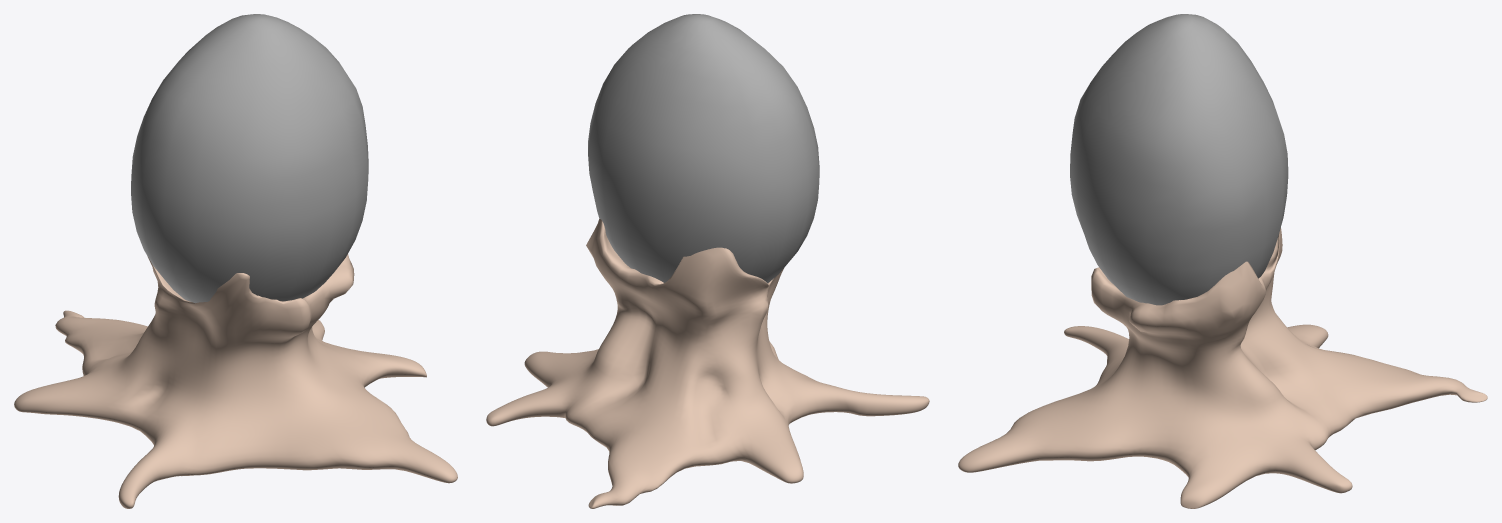
Rendered from EggLP.fbx.
The picture shows the model from 3 angles, left to right: view 1: azimuth 30°, elevation 25°; view 2: azimuth 150°, elevation 25°; view 3: azimuth 270°, elevation 25°; orthographic projection. The views are drawn at different scales.
Visible parts, largest first — view 1: Egg_low, Stand_low; view 2: Stand_low, Egg_low; view 3: Stand_low, Egg_low.
Boxes of the visible parts, x1,y1,x2,y2 form: Egg_low: [131, 14, 368, 303]; Stand_low: [14, 254, 457, 508]; Stand_low: [486, 218, 929, 508]; Egg_low: [588, 14, 819, 283]; Stand_low: [958, 227, 1487, 508]; Egg_low: [1070, 14, 1288, 305].
Size of the model in its own units: 11.47 by 12.43 by 14.47.
